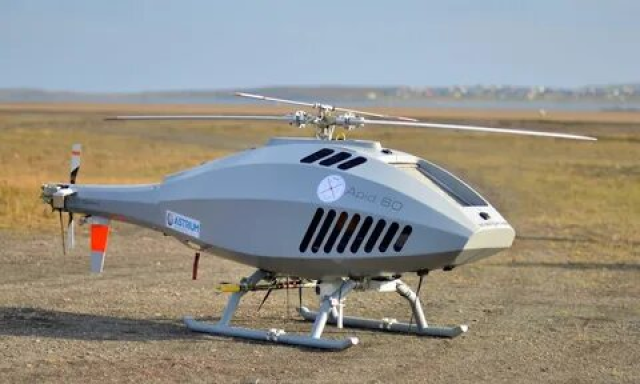military drone: (38, 90, 597, 351)
